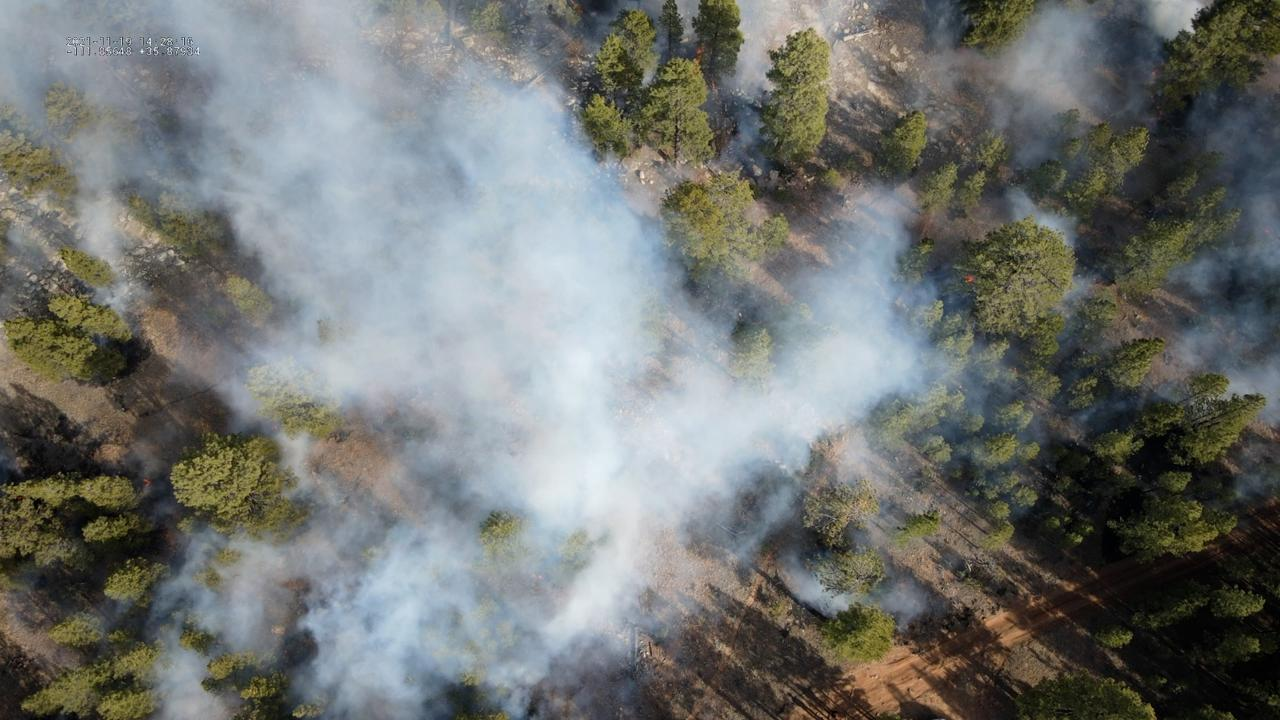fire: (695, 45, 704, 61), (965, 273, 975, 283), (143, 477, 152, 488)
smoke: (0, 0, 1280, 720)
